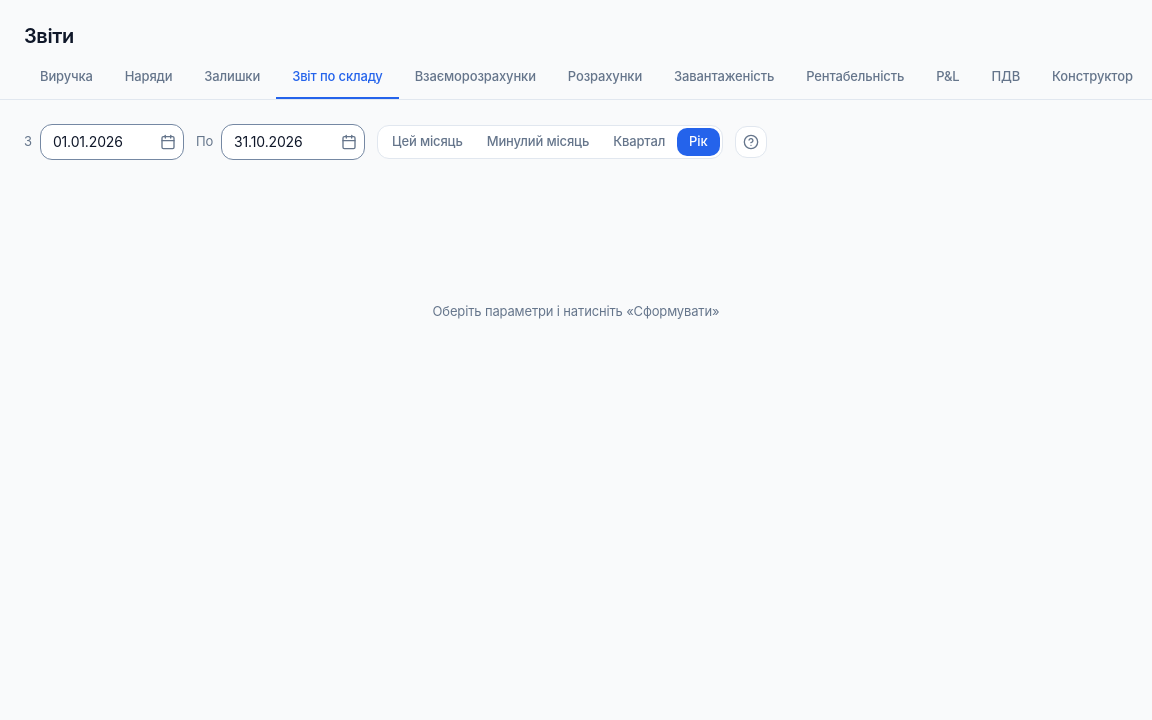
Test: Звіти — «?» за вкладкою › stock: «?» пояснює саме цей звіт
This screenshot has width=1152, height=720.
Click the button named "Як рахується «Звіт по складу»" at (750, 142), box [734,126,766,158]
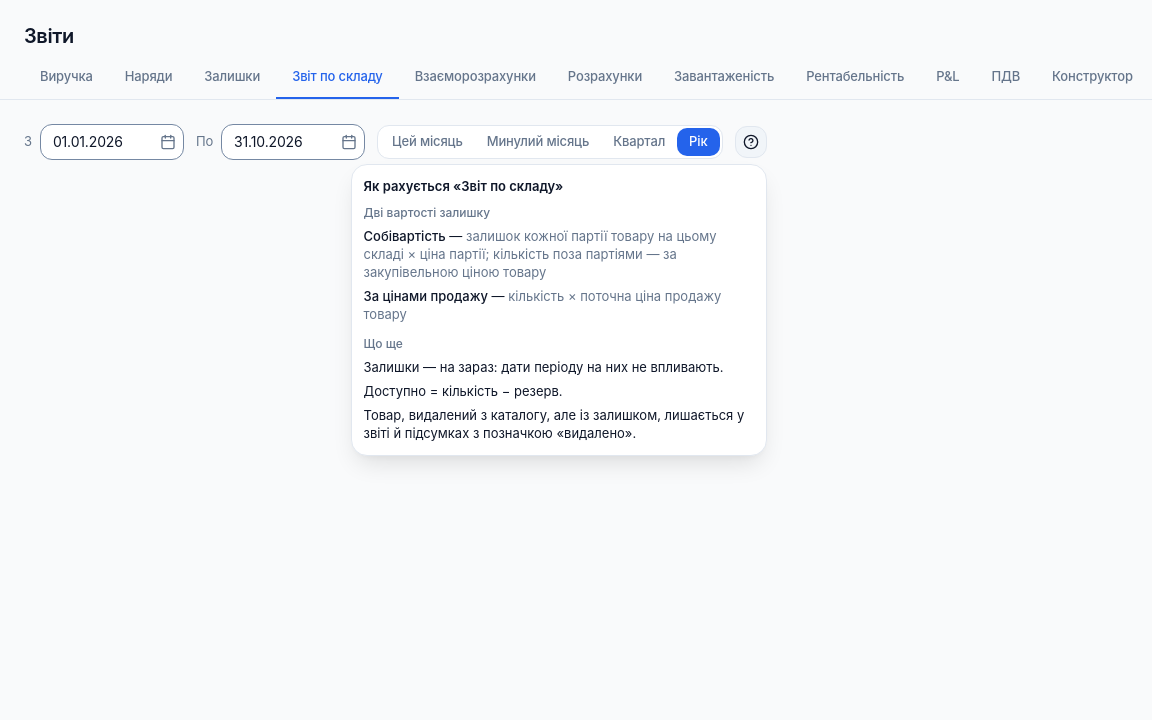
Check: the dialog shows "кількість поза партіями", box [364,228,716,280]
